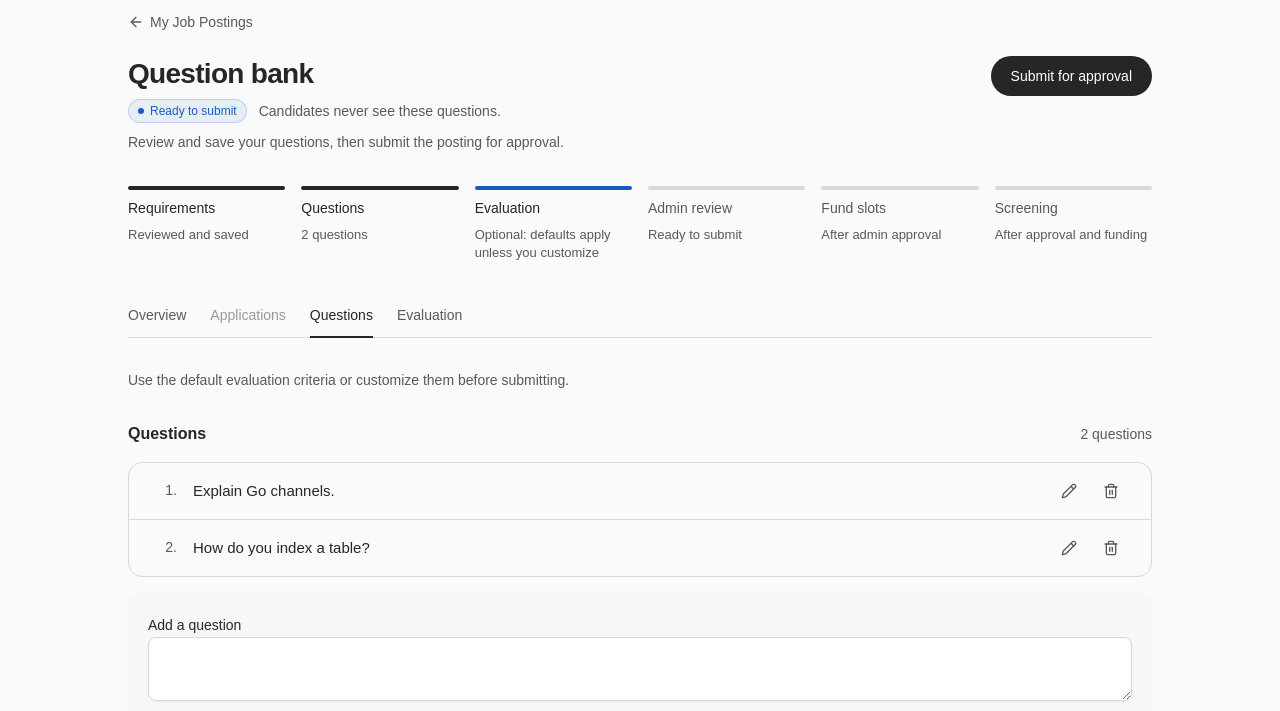
Test: QuestionBank › uses the server limit for the length check
Type "This question is too long" into the text box labelled "Add a question" at (640, 669), box [148,637,1132,701]
(page scrolled)
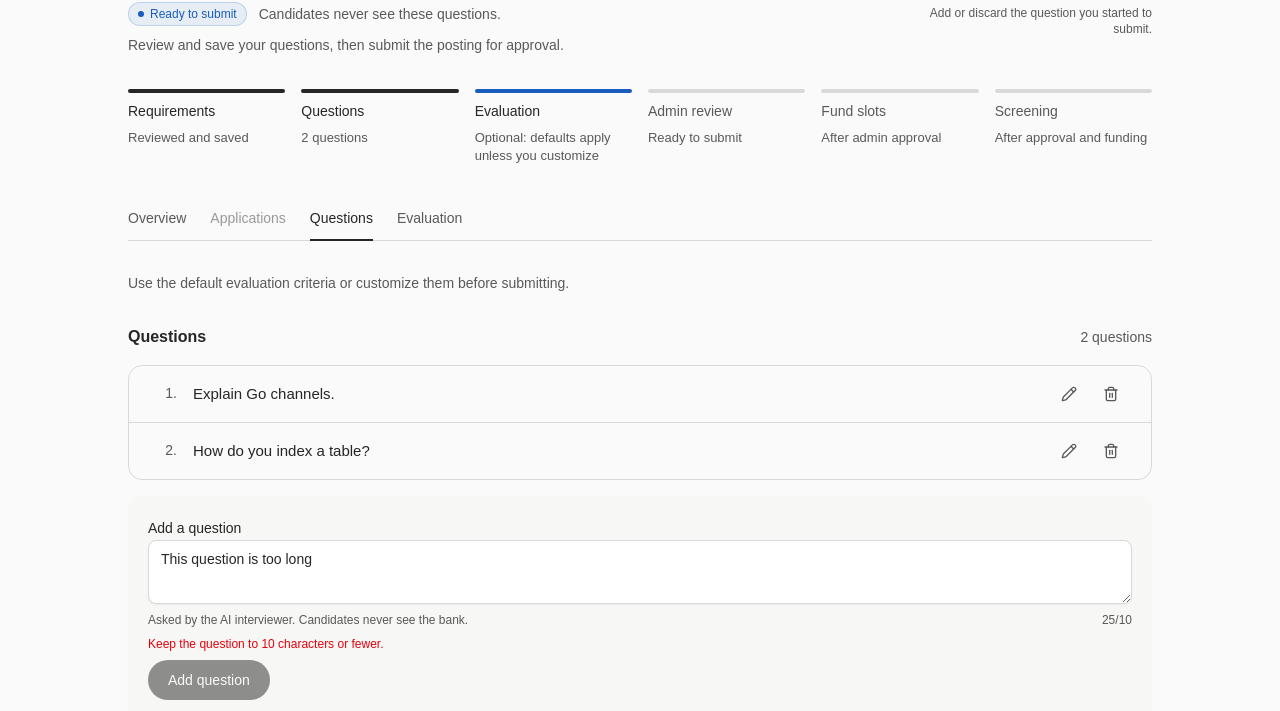
Expected: the button "Add question" is disabled, [148,660,270,700]
Expected: the message shows "10 characters or fewer", [148,637,384,651]
